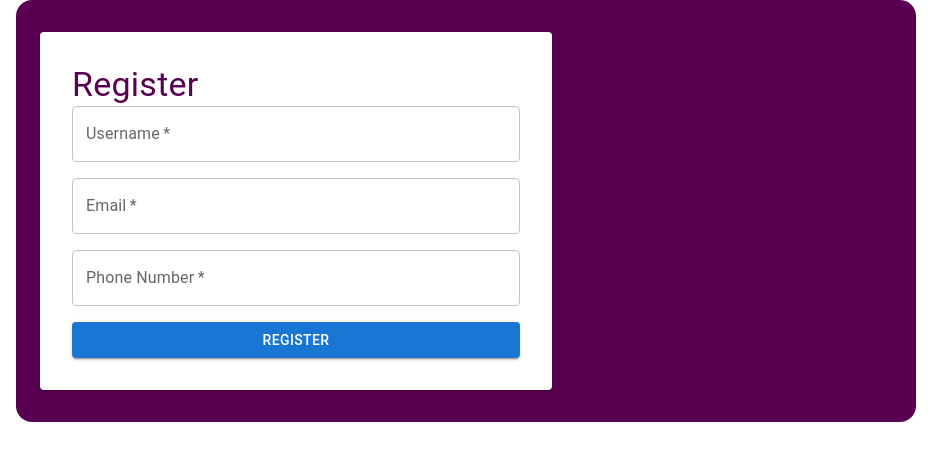
Test: RegistrationForm › shows validation error for invalid email format
Step 1. Type "invalid-email" into the field labelled "Email *" → point(296, 206), box [72,178,520,234]
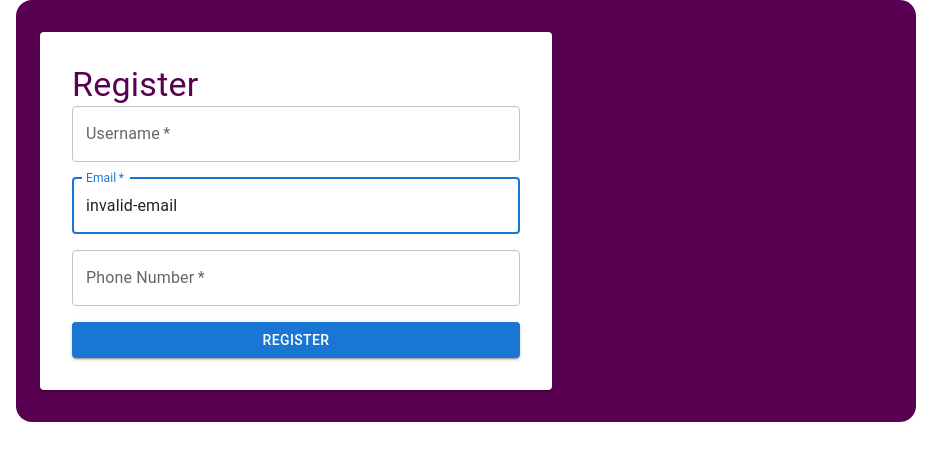
Step 2. Click the button "Register" → point(296, 340), box [72,322,520,358]
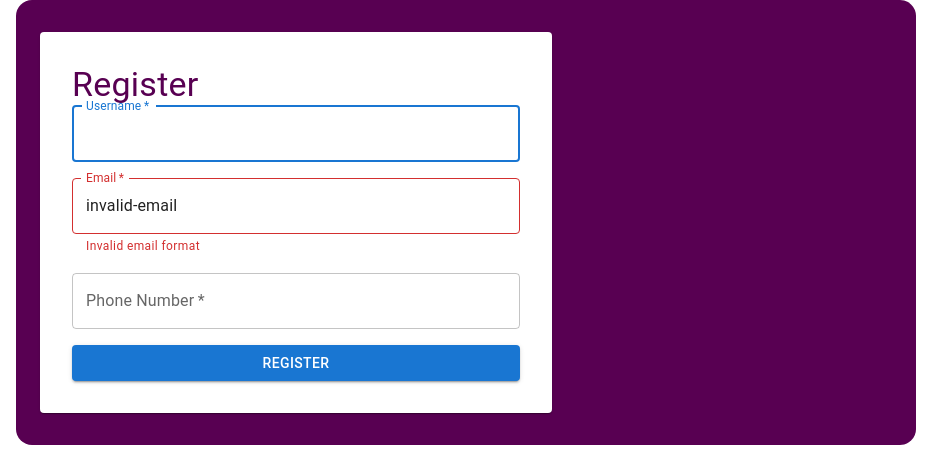
Expected: the text "Invalid email format" is shown, [86,239,200,253]
